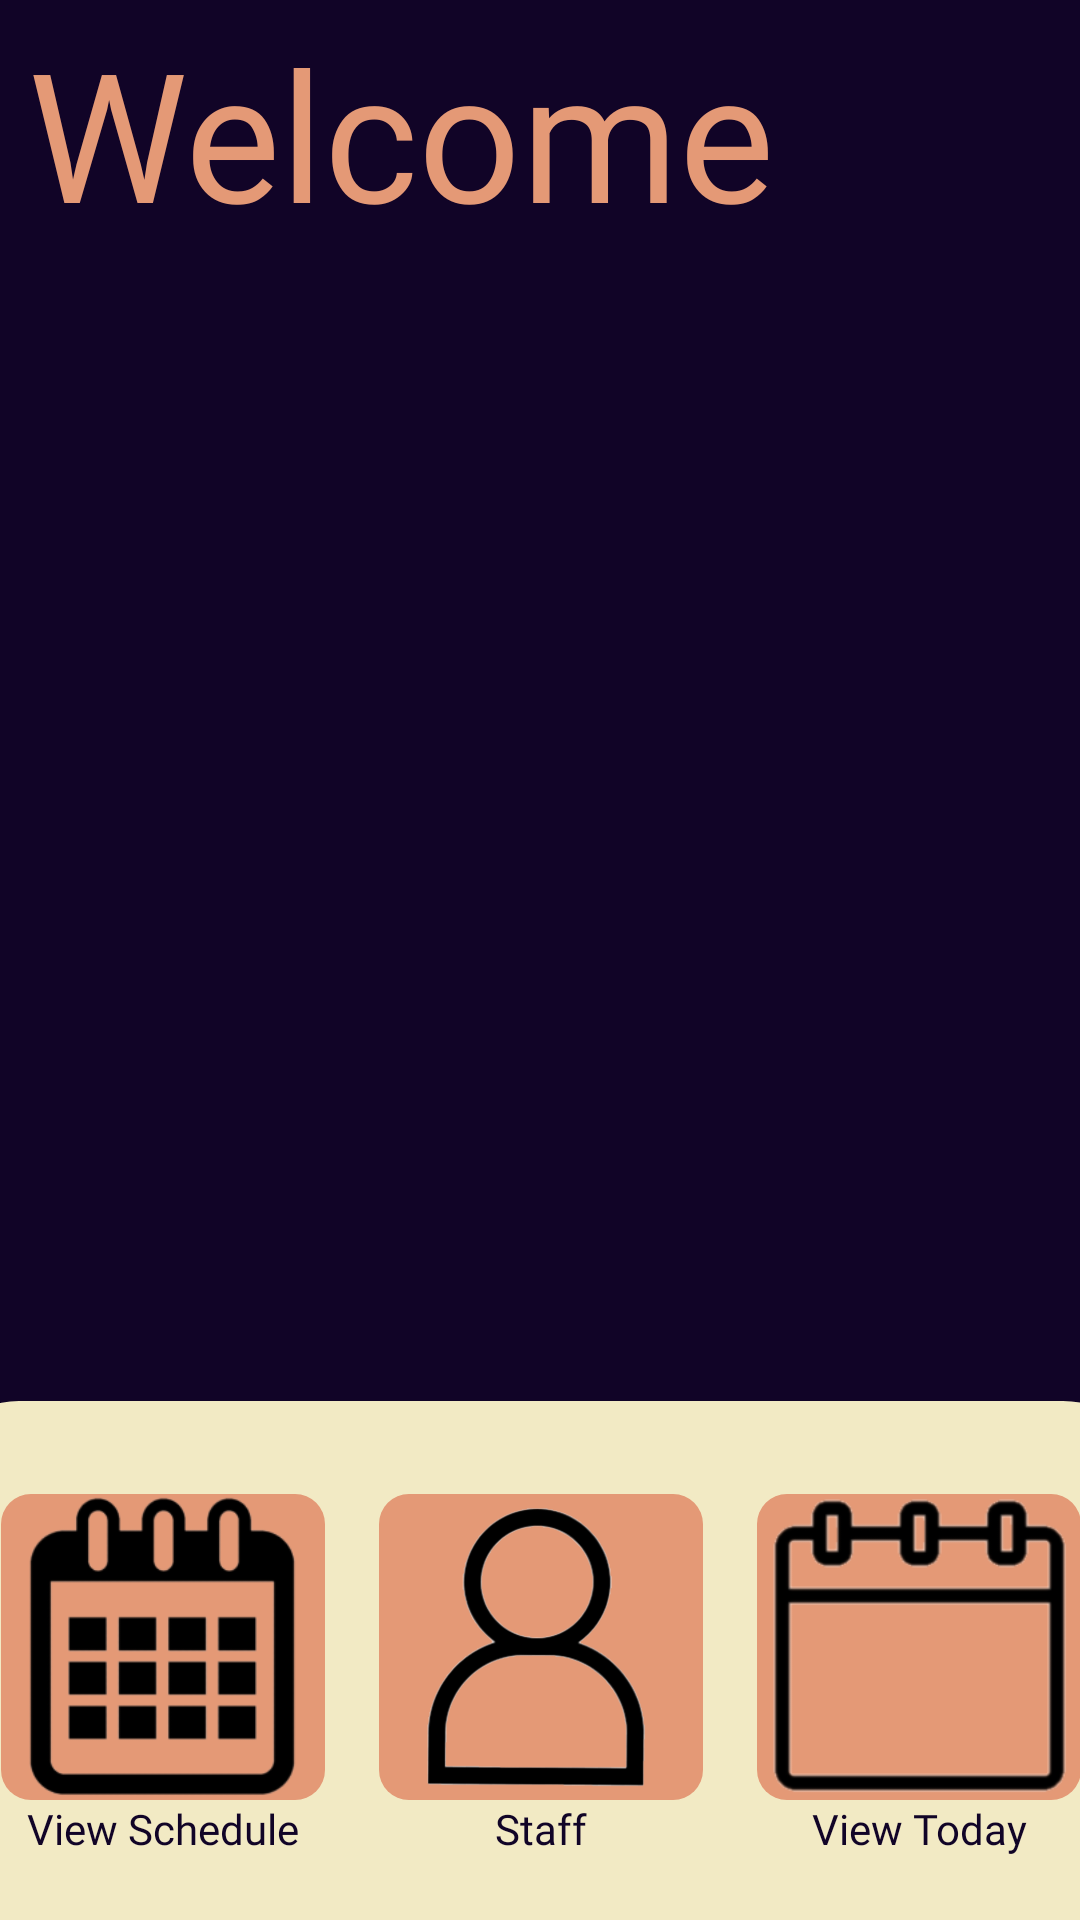

Where icons sit on this 1080 × 1920 app screen, as box=[x1, y1, x2, y2]:
person: box=[379, 1494, 703, 1800]
